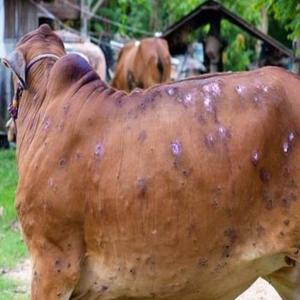lumpy skin diesease: (2, 22, 299, 299), (4, 30, 107, 144), (109, 36, 172, 93)
